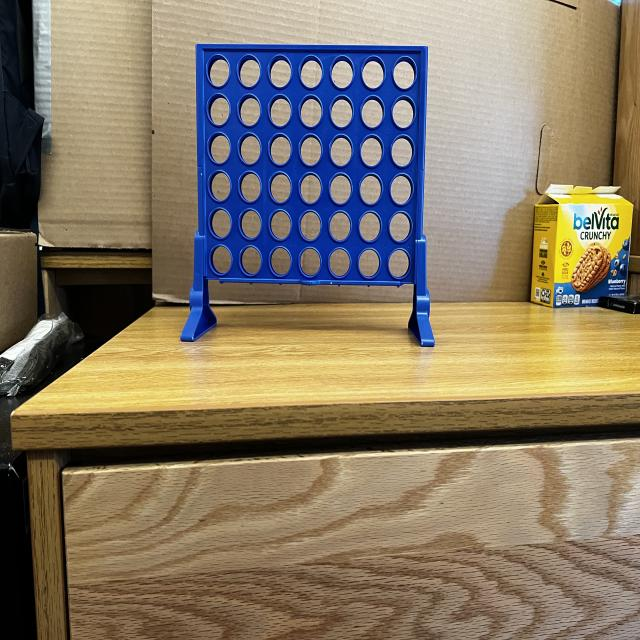Board: (194, 38, 427, 290)
